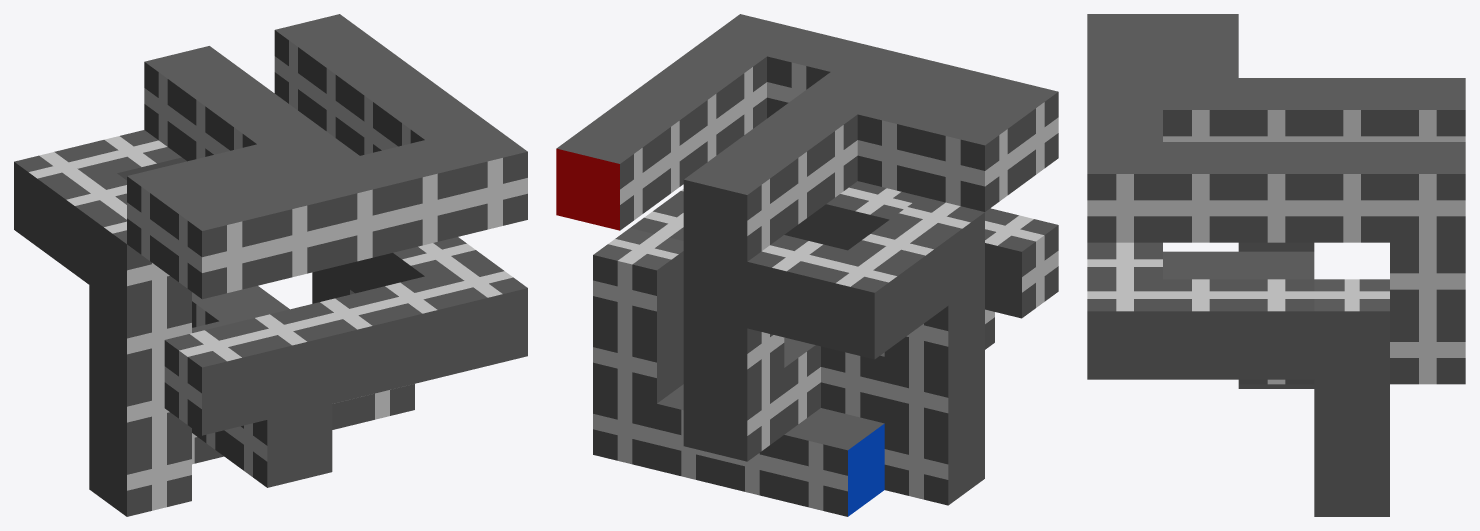
File: maze1.fbx
The picture shows the model from 3 angles, left to right: view 1: azimuth 30°, elevation 25°; view 2: azimuth 150°, elevation 25°; view 3: azimuth 270°, elevation 25°; orthographic projection. The views are drawn at different scales.
Visible parts, largest first — view 1: defaultmaze_cube_test; view 2: defaultmaze_cube_test; view 3: defaultmaze_cube_test.
Boxes of the visible parts, box(x1,y1,x2,y2) form: defaultmaze_cube_test: box(14, 14, 527, 516); defaultmaze_cube_test: box(556, 14, 1058, 516); defaultmaze_cube_test: box(1087, 14, 1465, 516).
Size of the model in its own units: 10 by 10 by 10.
